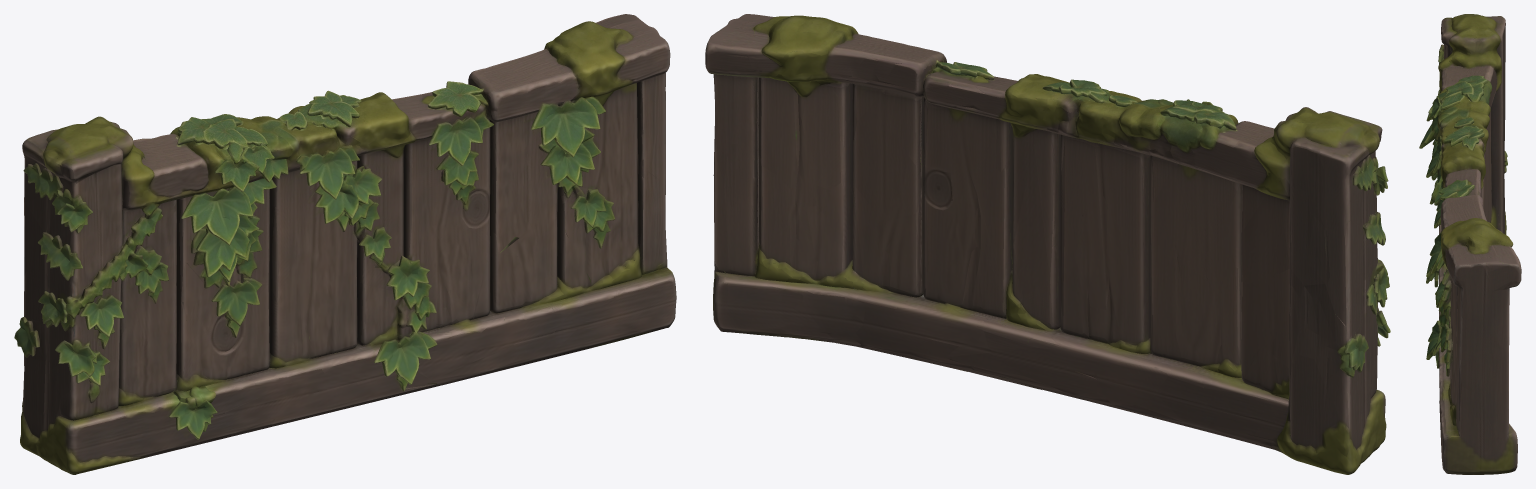
The model's file is wall-06.obj.
3 views of the same model, side by side, from view 1: azimuth 30°, elevation 25°; view 2: azimuth 150°, elevation 25°; view 3: azimuth 270°, elevation 25° (orthographic). The views are drawn at different scales.
Parts seen in each view (by area): view 1: Meshy_AI_Ivy_Covered_Wooden_Fe_0919053348_texture; view 2: Meshy_AI_Ivy_Covered_Wooden_Fe_0919053348_texture; view 3: Meshy_AI_Ivy_Covered_Wooden_Fe_0919053348_texture.
Part boxes in pixels (<box>): Meshy_AI_Ivy_Covered_Wooden_Fe_0919053348_texture: <box>14,14,676,474</box>; Meshy_AI_Ivy_Covered_Wooden_Fe_0919053348_texture: <box>705,14,1390,474</box>; Meshy_AI_Ivy_Covered_Wooden_Fe_0919053348_texture: <box>1419,14,1521,474</box>.
Bounding box in the file's own units: 1.89 × 0.937 × 0.356.
1 material, 1 textured.
